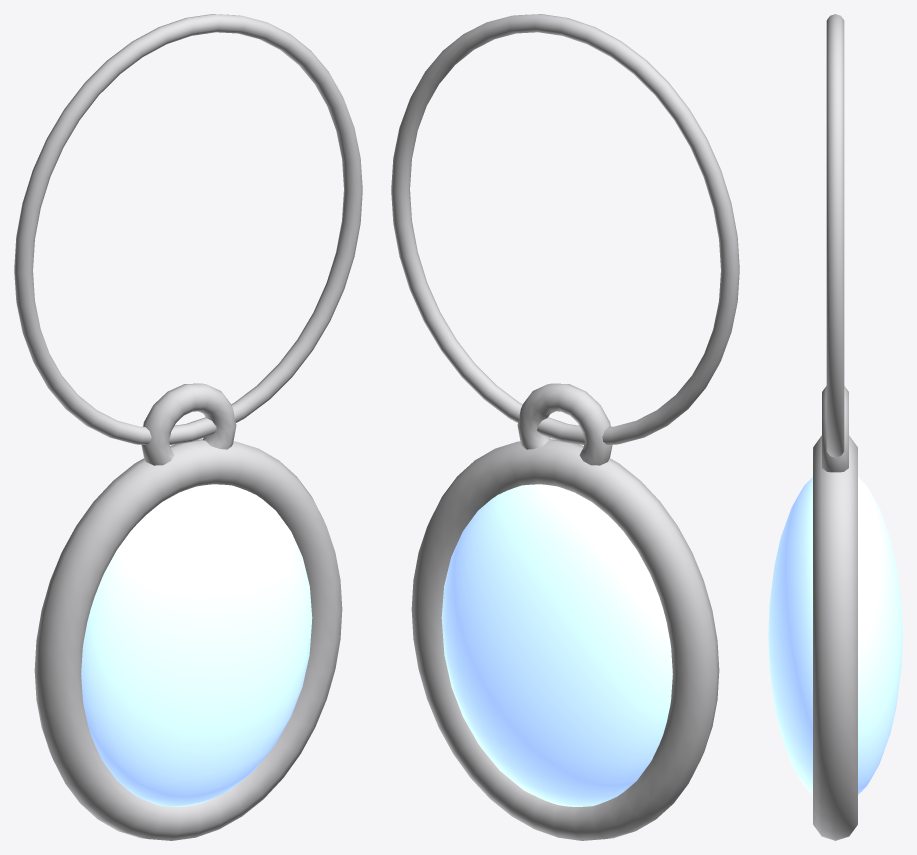
The model's file is moonstone_amulet.glb.
3 views of the same model, side by side, from view 1: azimuth 30°, elevation 25°; view 2: azimuth 150°, elevation 25°; view 3: azimuth 270°, elevation 25° (orthographic). The views are drawn at different scales.
Parts seen in each view (by area): view 1: bezel; view 2: bezel; view 3: bezel.
Part boxes in pixels (<box>): bezel: <box>14,14,362,840</box>; bezel: <box>391,14,739,840</box>; bezel: <box>768,14,902,840</box>.
Size of the model in its own units: 0.0464 by 0.1048 by 0.016.
